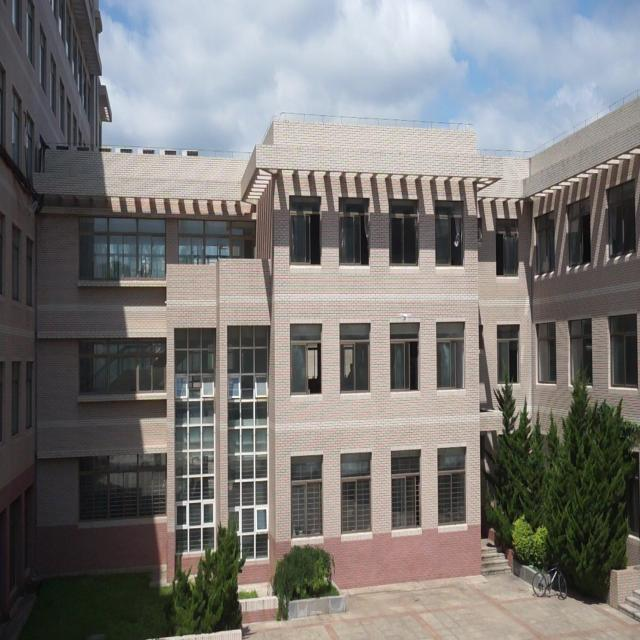drone: (397, 310, 411, 326)
